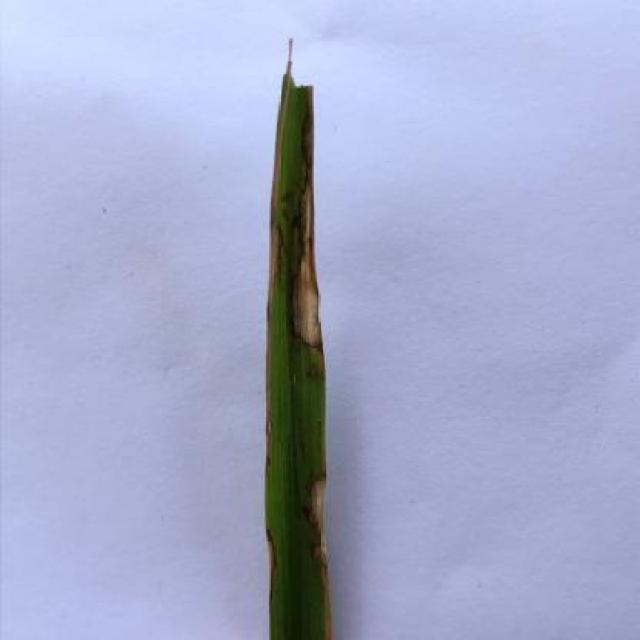Brown_Spot: (256, 26, 336, 640)
